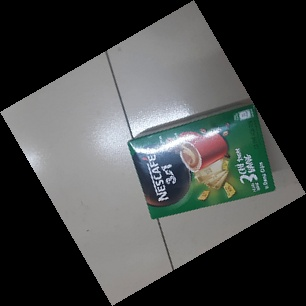Nes Rang: (122, 102, 276, 222)
